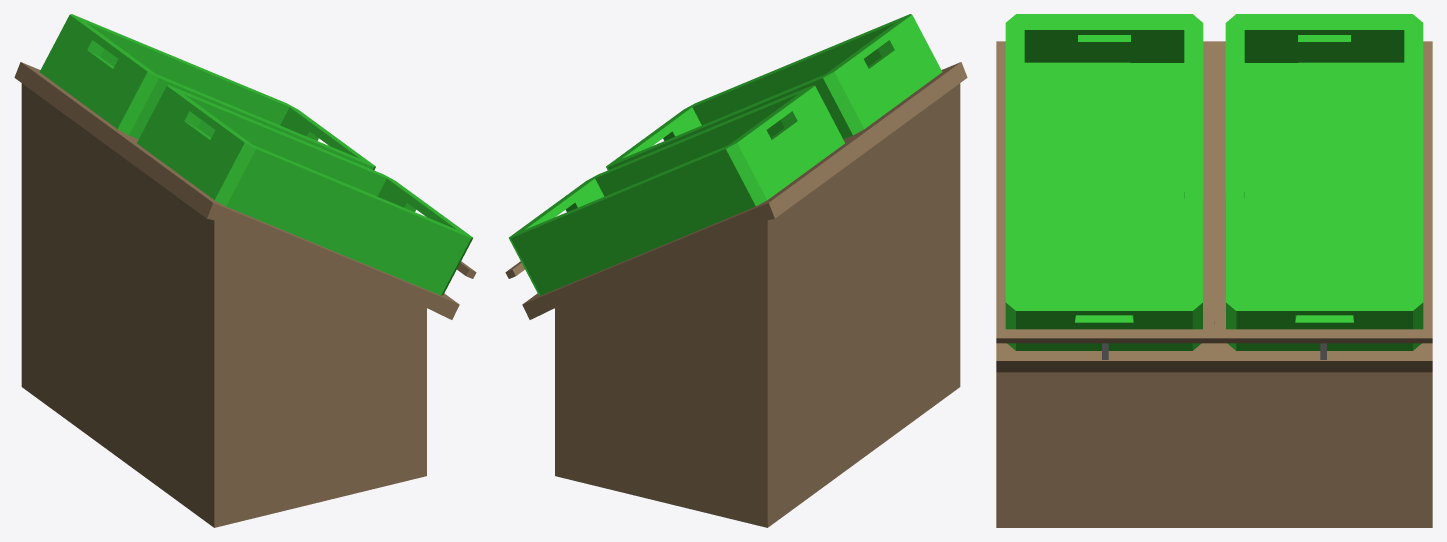
File: FruitShelf.fbx
3 views of the same model, side by side, from view 1: azimuth 30°, elevation 25°; view 2: azimuth 150°, elevation 25°; view 3: azimuth 270°, elevation 25° (orthographic). The views are drawn at different scales.
Visible parts, largest first — view 1: Regal; view 2: Regal; view 3: Regal.
Boxes of the visible parts, x1=… form: Regal: x1=14, y1=14, x2=476, y2=527; Regal: x1=505, y1=14, x2=967, y2=527; Regal: x1=996, y1=14, x2=1432, y2=527.
Size of the model in its own units: 82.45 by 106 by 100.
